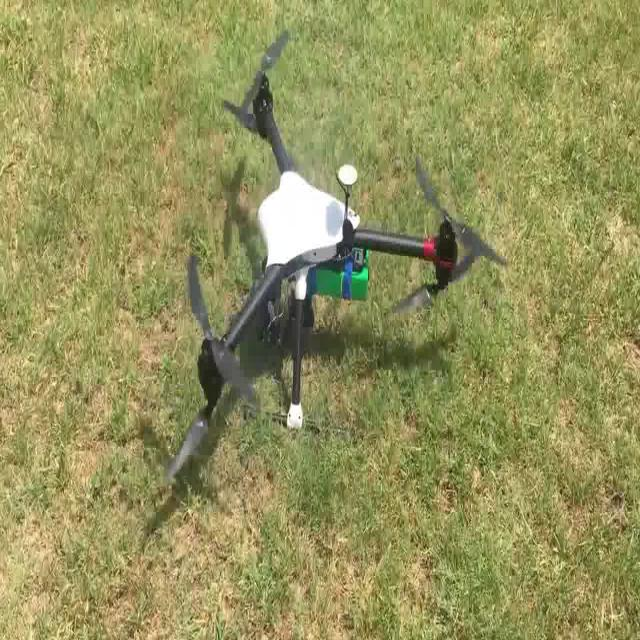drones: (161, 29, 451, 497)
